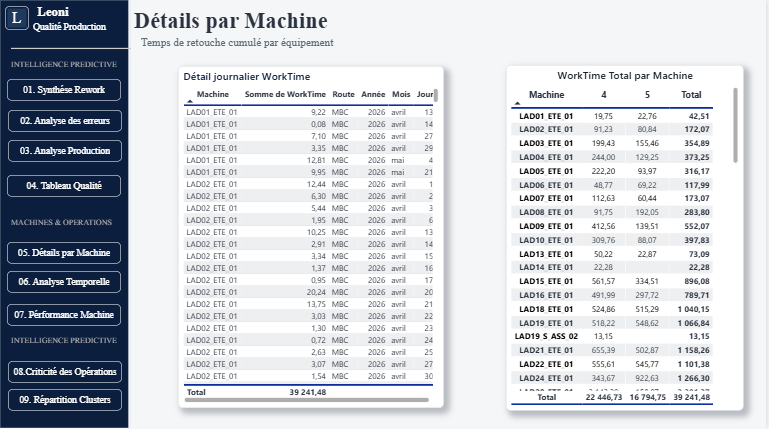

The dashboard page shown, as its layout file describes it:
{"tool":"powerbi","page":{"name":"Page 6","canvas":[1280,720],"ordinal":4},"visuals":[{"type":"pivotTable","title":"WorkTime Total par Machine","fields":{"Rows":["Sheet1.Machine"],"Values":["Sum(Sheet1.WorkTime)"],"Columns":["Sheet1.Mois"]},"box":[847.1,111.4,395.7,575.7],"z":0},{"type":"tableEx","title":"Détail journalier WorkTime ","fields":{"Values":["Sheet1.Machine","Sum(Sheet1.WorkTime)","Sheet1.Route","Sheet1.StartTime.Variation.Hiérarchie de dates.Année","Sheet1.StartTime.Variation.Hiérarchie de dates.Mois","Sheet1.StartTime.Variation.Hiérarchie de dates.Jour"]},"box":[300,112.9,442.9,570],"z":1000},{"type":"shape","box":[0,0,221.4,720],"z":2000},{"type":"shape","box":[11.4,12.9,40,40],"z":3000},{"type":"textbox","box":[51.4,7.1,80,45.7],"z":4000},{"type":"textbox","box":[17.1,35.7,204.3,38.6],"z":5000},{"type":"shape","box":[21.4,22.9,200,121.4],"z":6000},{"type":"actionButton","box":[15.7,134.3,190,35.7],"z":7000},{"type":"actionButton","box":[17.1,187.1,190,35.7],"z":8000},{"type":"actionButton","box":[17.1,237.1,190,35.7],"z":9000},{"type":"actionButton","box":[15.7,294.3,190,35.7],"z":10000},{"type":"actionButton","box":[15.7,407.1,190,35.7],"z":11000},{"type":"actionButton","box":[15.7,454.3,190,35.7],"z":12000},{"type":"actionButton","box":[15.7,510,190,35.7],"z":13000},{"type":"actionButton","box":[17.1,604.3,190,35.7],"z":14000},{"type":"actionButton","box":[17.1,651.4,190,35.7],"z":15000},{"type":"textbox","box":[17.1,557.1,188.6,30],"z":16000},{"type":"textbox","box":[17.1,360,188.6,30],"z":17000},{"type":"textbox","box":[17.1,97.1,194.3,30],"z":18000},{"type":"textbox","box":[232.9,58.6,477.1,52.9],"z":19000},{"type":"textbox","box":[221.4,11.4,1041.4,74.3],"z":20000}]}

Visuals, with their boxes on the page's 1280x720 design canvas (x1, y1, x2, y2). These are canvas units, not pixel positions in the 769x429 screenshot, which may show the page scaled, cropped or inside an application window:
"WorkTime Total par Machine" pivotTable: rect(847, 111, 1243, 687)
"Détail journalier WorkTime " tableEx: rect(300, 113, 743, 683)
shape: rect(0, 0, 221, 720)
shape: rect(11, 13, 51, 53)
textbox: rect(51, 7, 131, 53)
textbox: rect(17, 36, 221, 74)
shape: rect(21, 23, 221, 144)
actionButton: rect(16, 134, 206, 170)
actionButton: rect(17, 187, 207, 223)
actionButton: rect(17, 237, 207, 273)
actionButton: rect(16, 294, 206, 330)
actionButton: rect(16, 407, 206, 443)
actionButton: rect(16, 454, 206, 490)
actionButton: rect(16, 510, 206, 546)
actionButton: rect(17, 604, 207, 640)
actionButton: rect(17, 651, 207, 687)
textbox: rect(17, 557, 206, 587)
textbox: rect(17, 360, 206, 390)
textbox: rect(17, 97, 211, 127)
textbox: rect(233, 59, 710, 112)
textbox: rect(221, 11, 1263, 86)
